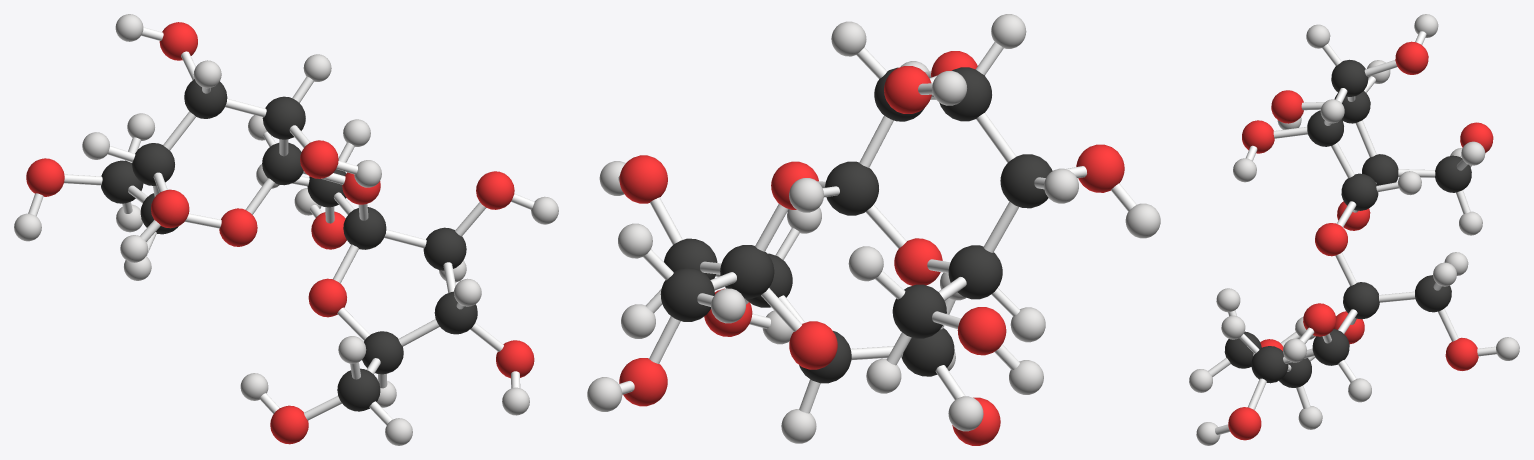
The model's file is zhetang.fbx.
The picture shows the model from 3 angles, left to right: view 1: azimuth 30°, elevation 25°; view 2: azimuth 150°, elevation 25°; view 3: azimuth 270°, elevation 25°; orthographic projection. The views are drawn at different scales.
Visible parts, largest first — view 1: _0*196, _0*173, _0*200, _0*195, _0*175, _0*172, _0*198, _0*177, _0*197, _0*174, _0*168, _0*191 (+26 smaller); view 2: _0*172, _0*176, _0*177, _0*199, _0*195, _0*175, _0*171, _0*189, _0*191, _0*170, _0*200, _0*169 (+38 smaller); view 3: _0*197, _0*172, _0*195, _0*174, _0*177, _0*196, _0*199, _0*192, _0*169, _0*173, _0*190, _0*193 (+27 smaller).
Boxes of the visible parts, box(x1,y1,x2,y2) form: _0*196: box(423, 227, 466, 270); _0*173: box(262, 96, 305, 139); _0*200: box(337, 368, 380, 411); _0*195: box(343, 207, 386, 249); _0*175: box(132, 143, 174, 185); _0*172: box(262, 142, 303, 185); _0*198: box(362, 331, 403, 374); _0*177: box(101, 160, 143, 203); _0*197: box(434, 291, 477, 334); _0*174: box(184, 79, 227, 118); _0*168: box(300, 140, 338, 178); _0*191: box(476, 171, 514, 209); _0*172: box(825, 161, 878, 215); _0*176: box(948, 245, 1002, 299); _0*177: box(892, 284, 946, 338); _0*199: box(660, 268, 714, 321); _0*195: box(720, 245, 774, 298); _0*175: box(1000, 154, 1052, 208); _0*171: box(957, 307, 1006, 355); _0*189: box(789, 321, 837, 369); _0*191: box(619, 155, 667, 203); _0*170: box(1076, 144, 1124, 192); _0*200: box(901, 328, 954, 376); _0*169: box(884, 66, 931, 113); _0*197: box(1251, 346, 1288, 383); _0*172: box(1341, 173, 1378, 210); _0*195: box(1343, 282, 1379, 319); _0*174: box(1331, 59, 1368, 96); _0*177: box(1435, 155, 1471, 192); _0*196: box(1312, 329, 1349, 365); _0*199: box(1415, 275, 1451, 312); _0*192: box(1228, 407, 1261, 440); _0*169: box(1395, 41, 1428, 74); _0*173: box(1307, 110, 1343, 146); _0*190: box(1315, 223, 1347, 256); _0*193: box(1445, 337, 1478, 370).
Size of the model in its own units: 171 by 142 by 127.
